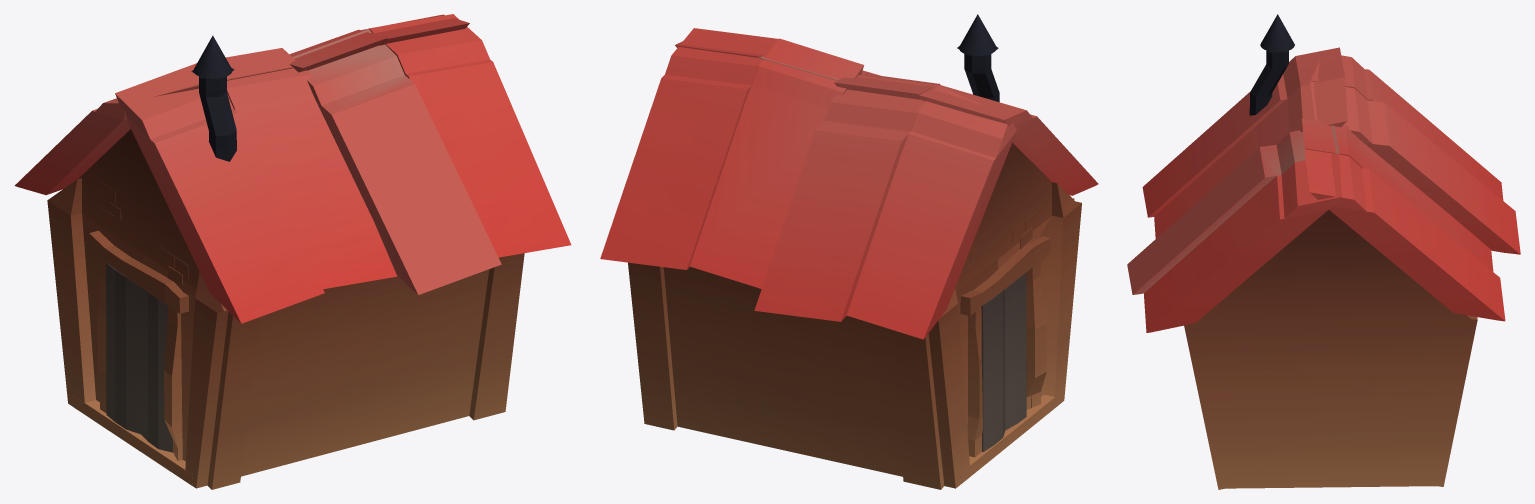
The model's file is SM_VillageHouse_b.fbx.
3 views of the same model, side by side, from view 1: azimuth 30°, elevation 25°; view 2: azimuth 150°, elevation 25°; view 3: azimuth 270°, elevation 25° (orthographic). The views are drawn at different scales.
Parts seen in each view (by area): view 1: Cube.010; view 2: Cube.010; view 3: Cube.010.
Part boxes in pixels (x1=…): Cube.010: x1=14, y1=14, x2=571, y2=489; Cube.010: x1=600, y1=14, x2=1098, y2=489; Cube.010: x1=1127, y1=14, x2=1520, y2=489.
Bounding box in the file's own units: 416 × 466 × 454.
Materials: 1 (1 with a texture image).
